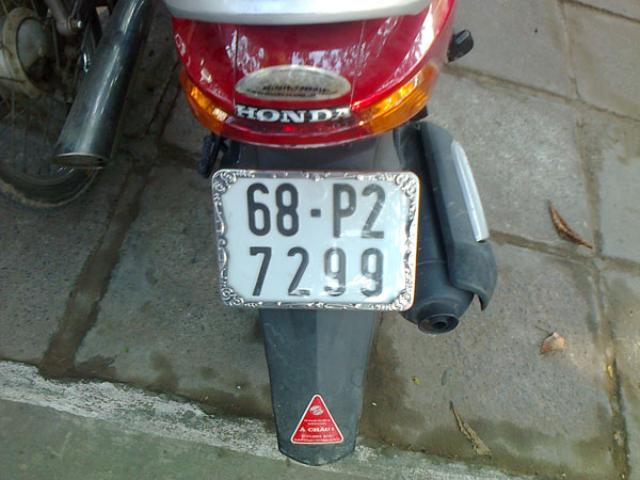plate: (218, 166, 416, 313)
